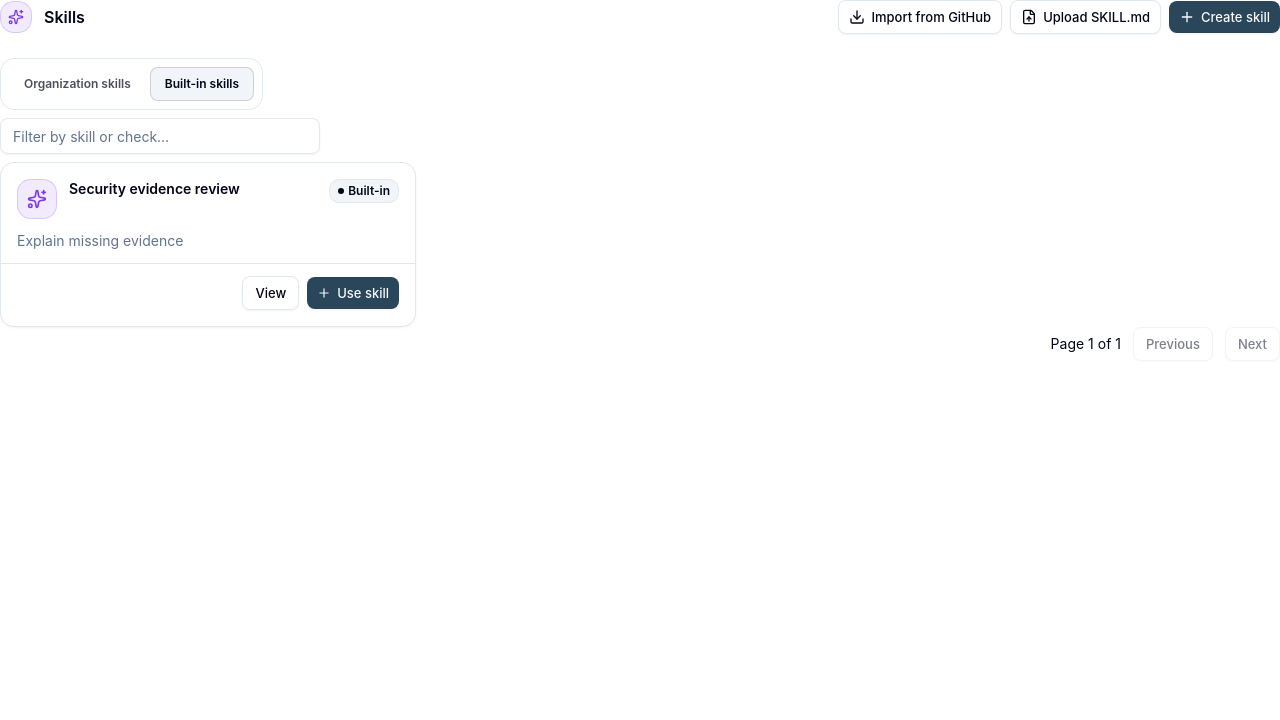
uses the existing organization instance of a built-in instead of creating another copy
The width and height of the screenshot is (1280, 720).
Click the button with aria-label "Use Security evidence review": click(353, 293) [307,277,399,309]
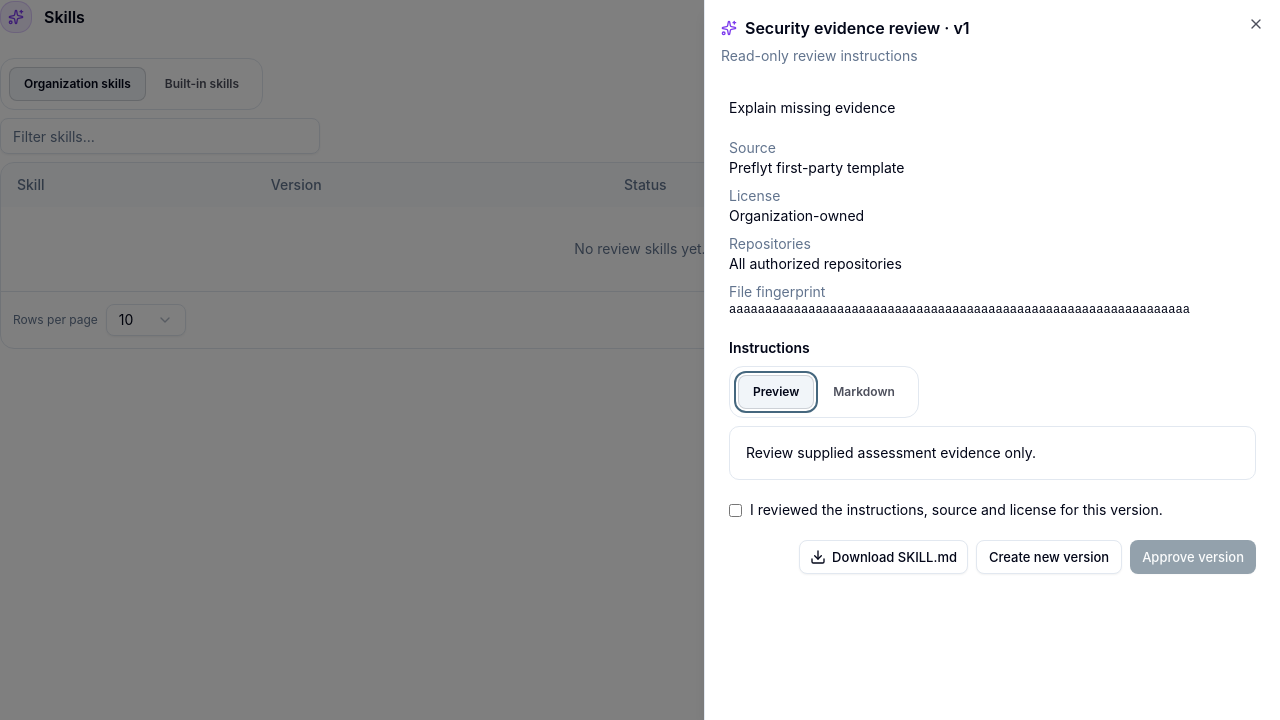
Expected: the button "Approve version" is shown, [1130,540,1256,574]
